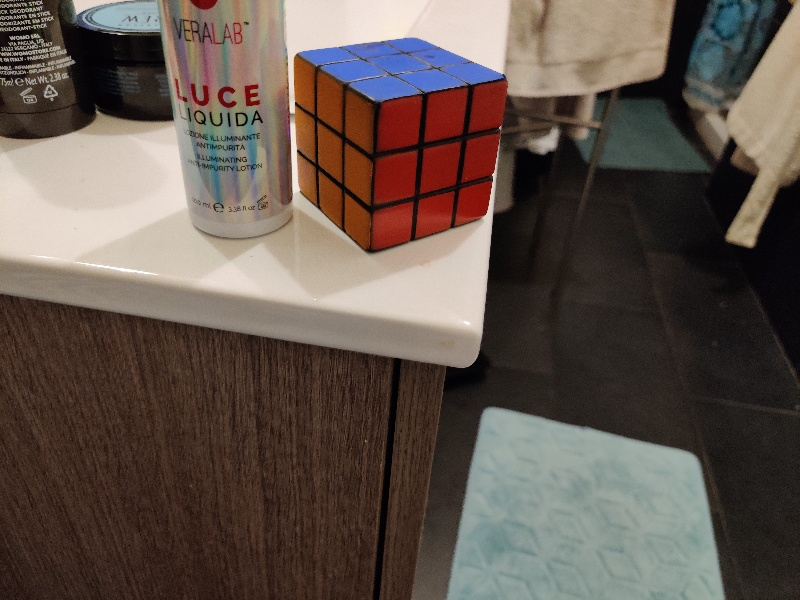rubik: (294, 38, 508, 255)
